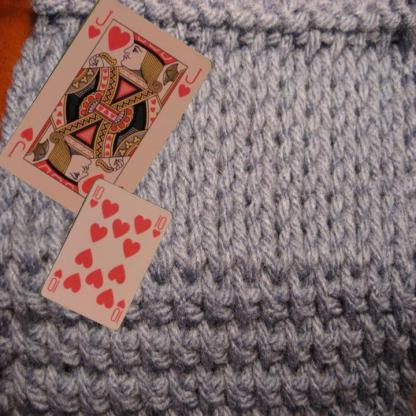10h: (86, 182, 106, 209), (108, 297, 126, 324)
Jh: (85, 7, 115, 40)
